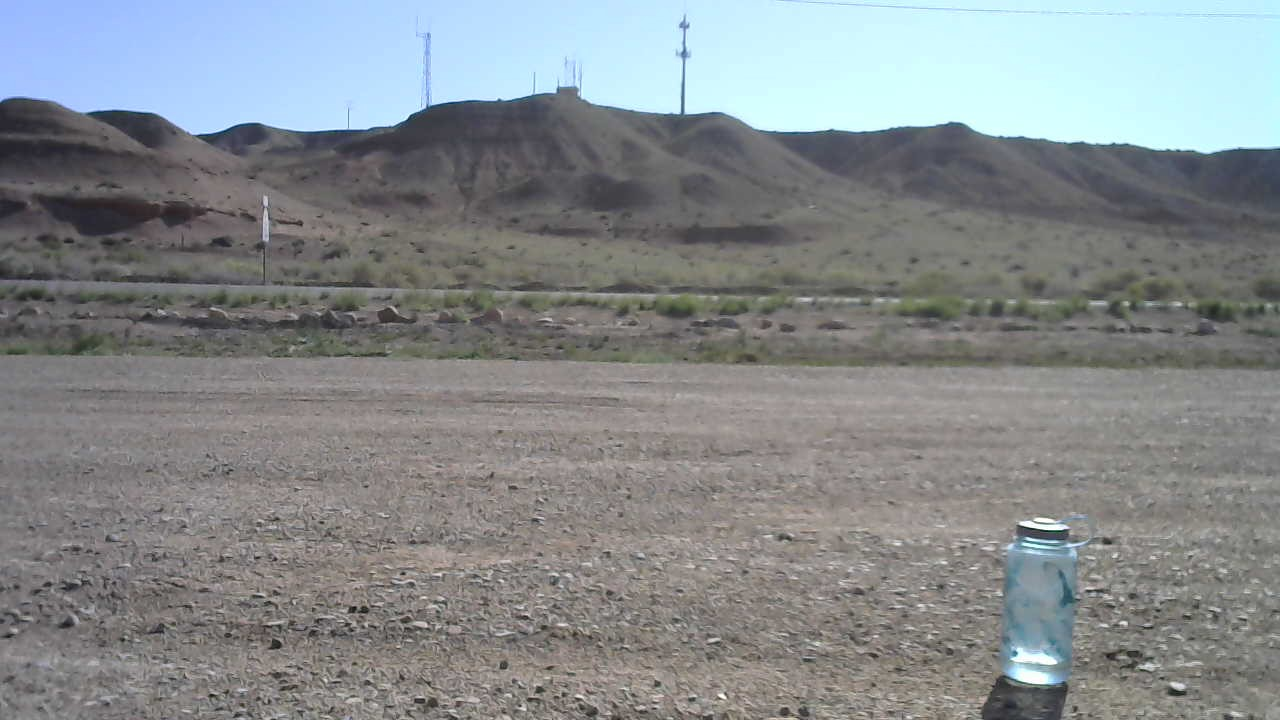bottle: (992, 510, 1093, 691)
